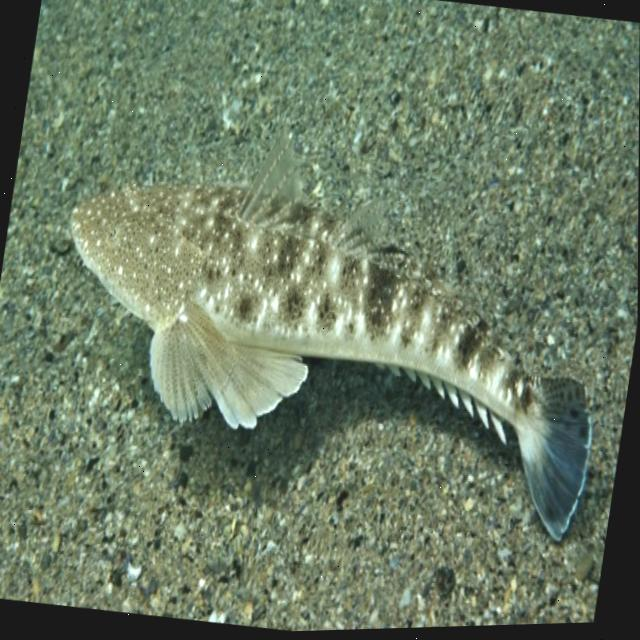Flathead: (28, 77, 639, 573)
